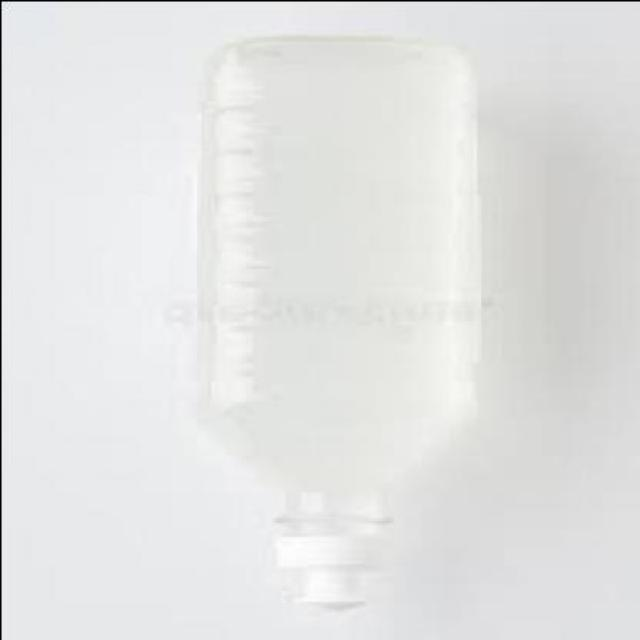PLASTIC: (185, 35, 472, 612), (266, 536, 374, 610)
